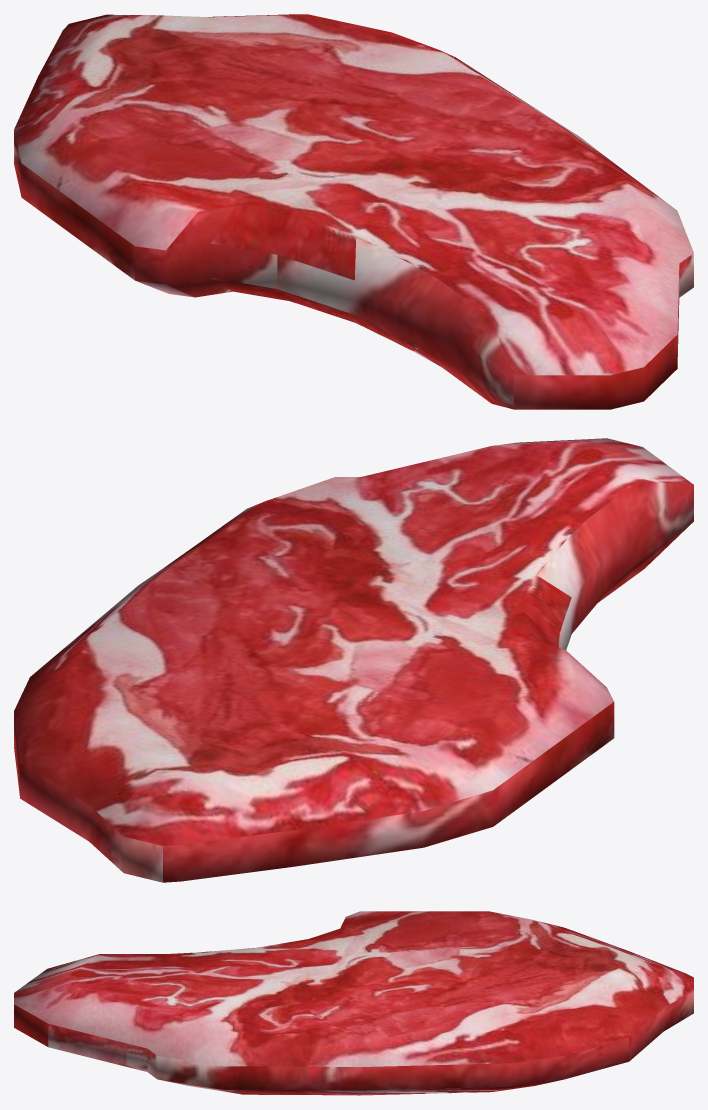
Rendered from rabbit meat 1.fbx.
3 views of the same model, one above another, from view 1: azimuth 30°, elevation 25°; view 2: azimuth 150°, elevation 25°; view 3: azimuth 270°, elevation 25° (orthographic). The views are drawn at different scales.
Visible parts, largest first — view 1: Plane001_Material #25_0.002; view 2: Plane001_Material #25_0.002; view 3: Plane001_Material #25_0.002.
Part boxes in pixels (x1,y1,x2,y2): Plane001_Material #25_0.002: (14, 14, 693, 409); Plane001_Material #25_0.002: (14, 438, 693, 882); Plane001_Material #25_0.002: (14, 911, 693, 1095).
Size of the model in its own units: 40.95 by 7.43 by 78.81.
